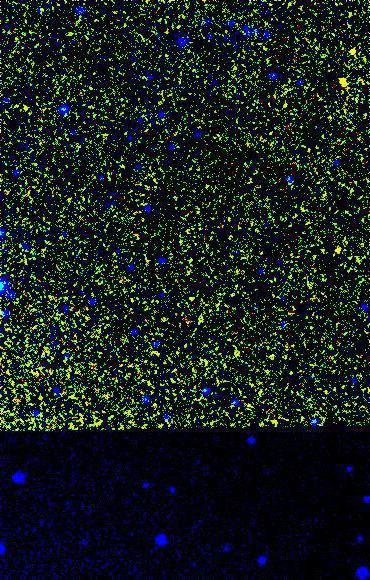star: (327, 67, 357, 97)
